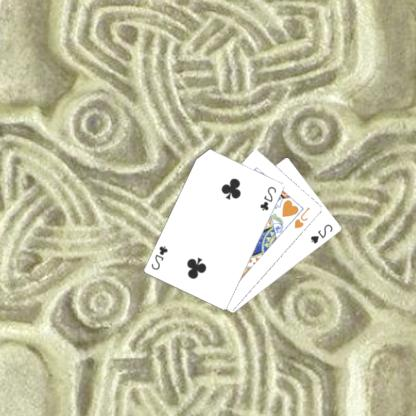2C: (150, 242, 172, 272), (259, 184, 280, 212)
2S: (310, 222, 336, 245)
JH: (293, 204, 314, 230)
